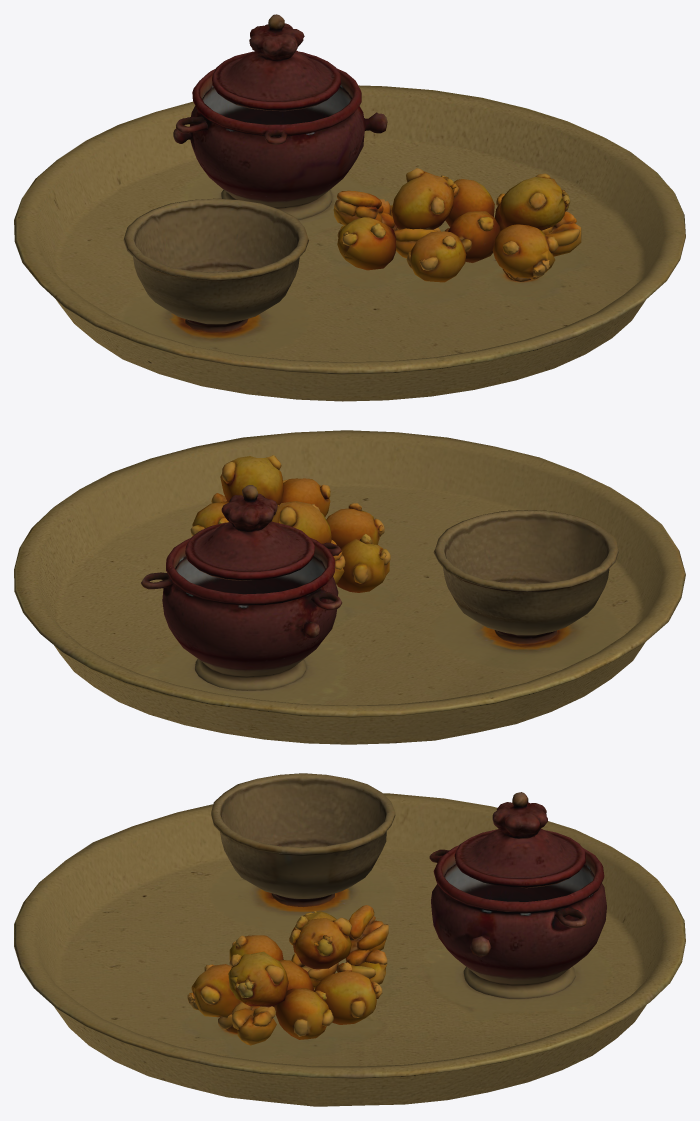
Rendered from theme-offering-bowl-v05.glb.
3 views of the same model, one above another, from view 1: azimuth 30°, elevation 25°; view 2: azimuth 150°, elevation 25°; view 3: azimuth 270°, elevation 25° (orthographic).
Visible parts, largest first — view 1: tripo_node_48cc9293-0605-41a7-86f5-fc0d37f06e11; view 2: tripo_node_48cc9293-0605-41a7-86f5-fc0d37f06e11; view 3: tripo_node_48cc9293-0605-41a7-86f5-fc0d37f06e11.
Part boxes in pixels (x1,y1,x2,y2): tripo_node_48cc9293-0605-41a7-86f5-fc0d37f06e11: (14, 14, 685, 401); tripo_node_48cc9293-0605-41a7-86f5-fc0d37f06e11: (14, 430, 685, 744); tripo_node_48cc9293-0605-41a7-86f5-fc0d37f06e11: (14, 773, 685, 1106).
Size of the model in its own units: 0.9405 by 0.3 by 0.9405.
Materials: 1 (1 with a texture image).
